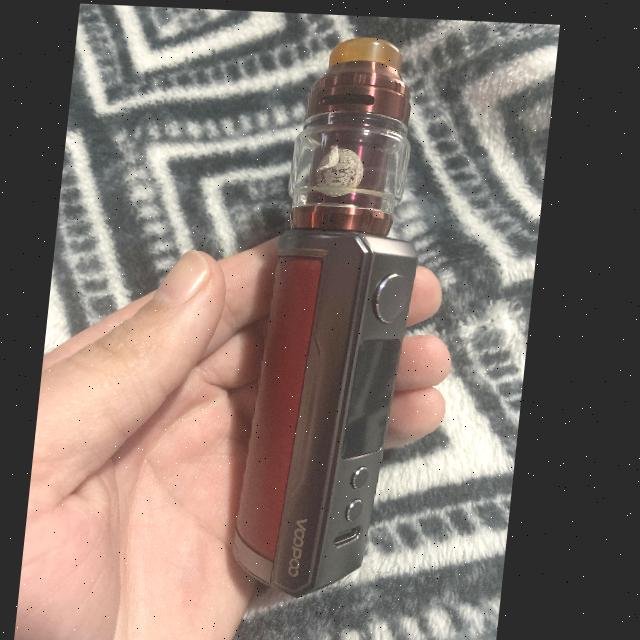vape: (239, 29, 442, 598)
